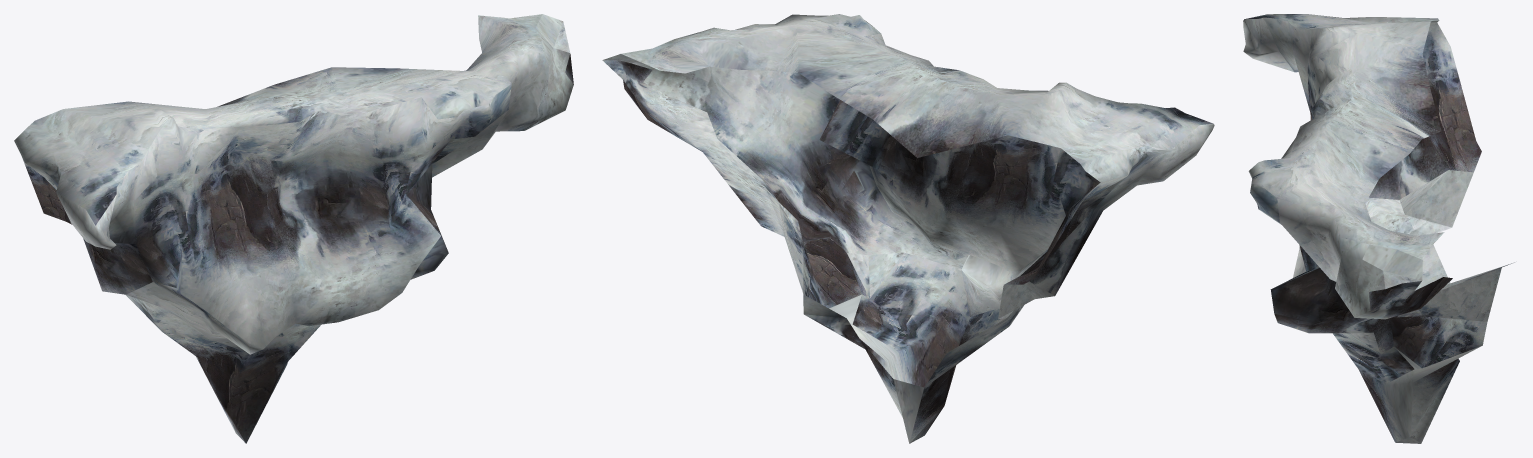
Rendered from S_Rock_White021.FBX.
3 renders of one model, left to right at view 1: azimuth 30°, elevation 25°; view 2: azimuth 150°, elevation 25°; view 3: azimuth 270°, elevation 25°, orthographic. The views are drawn at different scales.
Visible parts, largest first — view 1: snowland_rock021; view 2: snowland_rock021; view 3: snowland_rock021.
Part boxes in pixels (x1,y1,x2,y2): snowland_rock021: (14,14,573,443); snowland_rock021: (602,14,1214,443); snowland_rock021: (1243,14,1514,443).
Size of the model in its own units: 2868 by 1279 by 1849.
